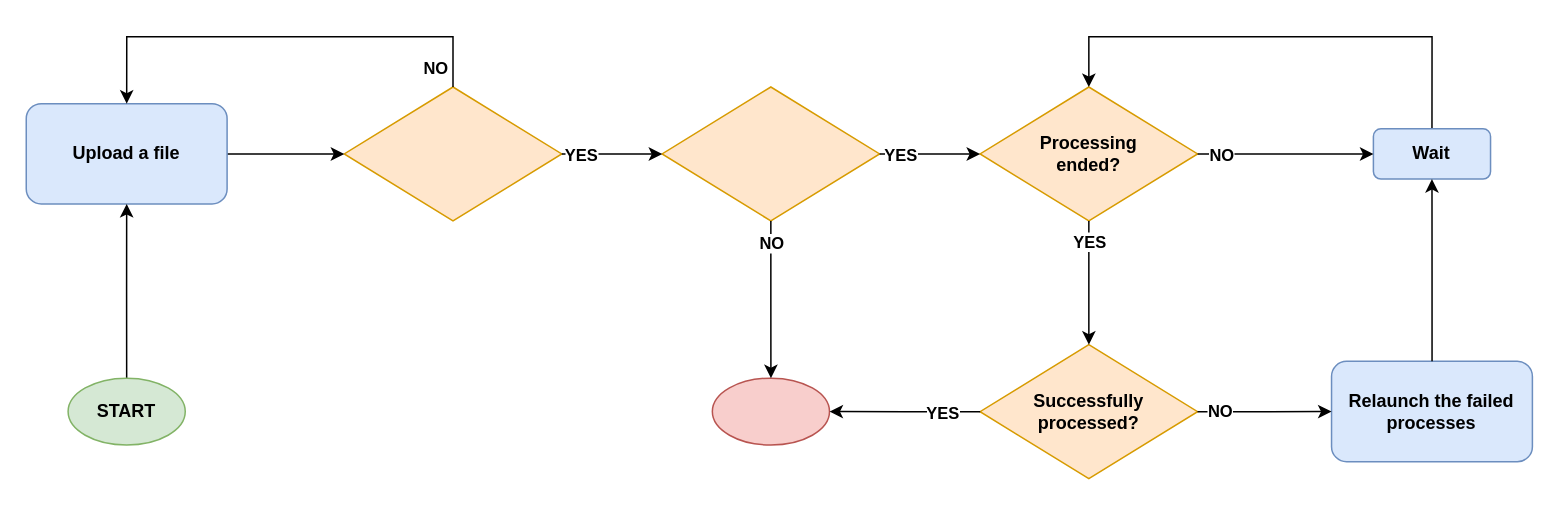
The diagram is 1560 pixels wide and 506 high, and some of its shapes have lost their labels. The centre of each missing label's shape, as x and y in pixels:
Accepted?: pixel 770 153
END: pixel 770 411
Successfully uploaded?: pixel 452 153
